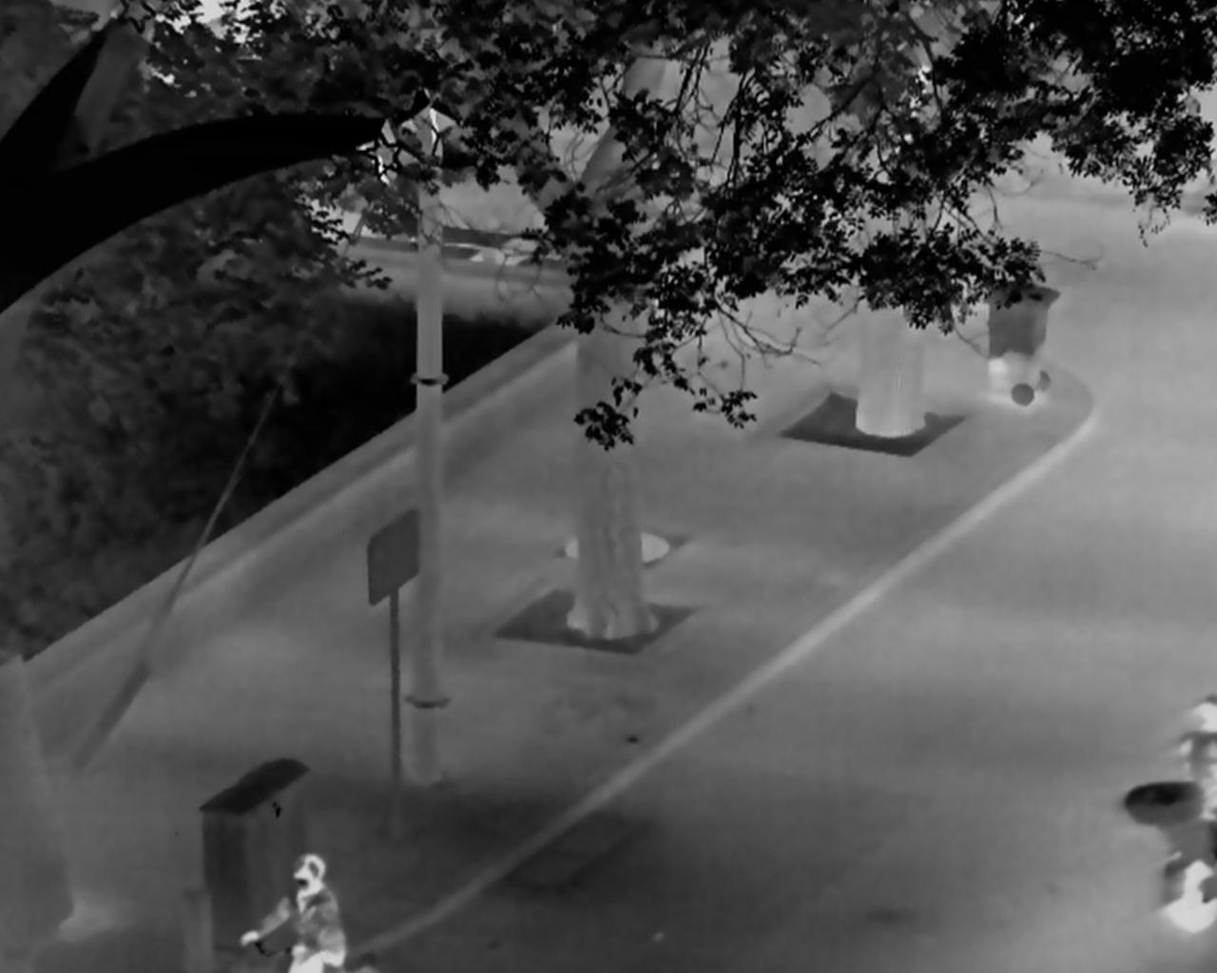person: (240, 853, 348, 973), (1169, 686, 1217, 830)
